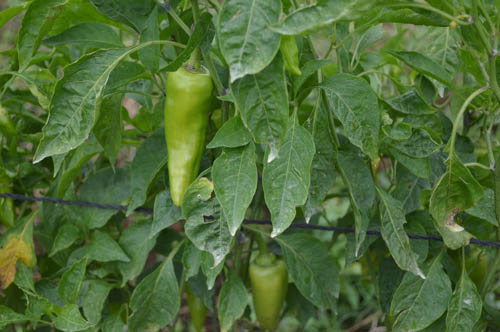ChiliPepper: (165, 70, 212, 207), (253, 262, 285, 330)
